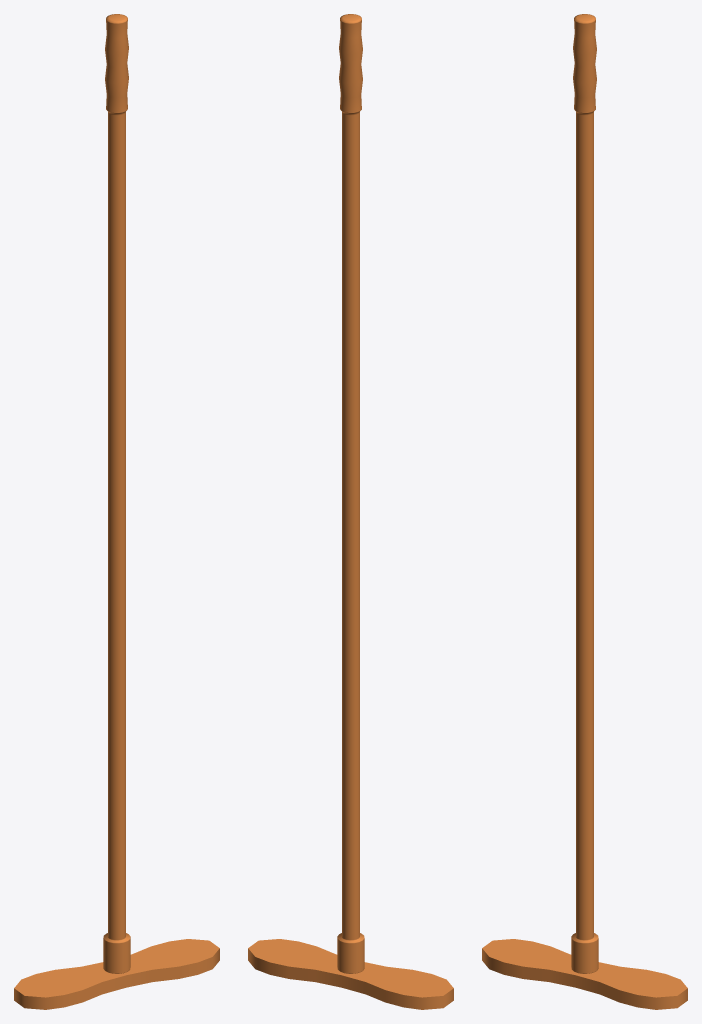
The model's file is broom_1.obj.
3 renders of one model, left to right at view 1: azimuth 30°, elevation 25°; view 2: azimuth 150°, elevation 25°; view 3: azimuth 330°, elevation 25°, orthographic.
Size of the model in its own units: 31.98 by 151 by 8.12.
